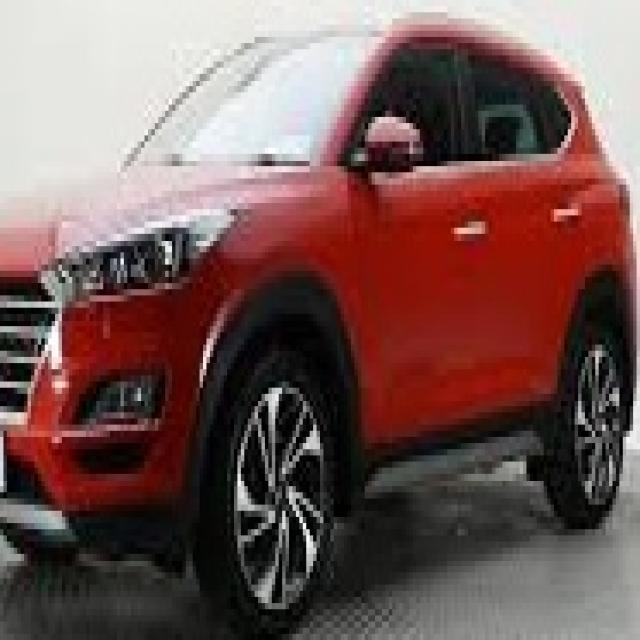red: (0, 9, 640, 558)
